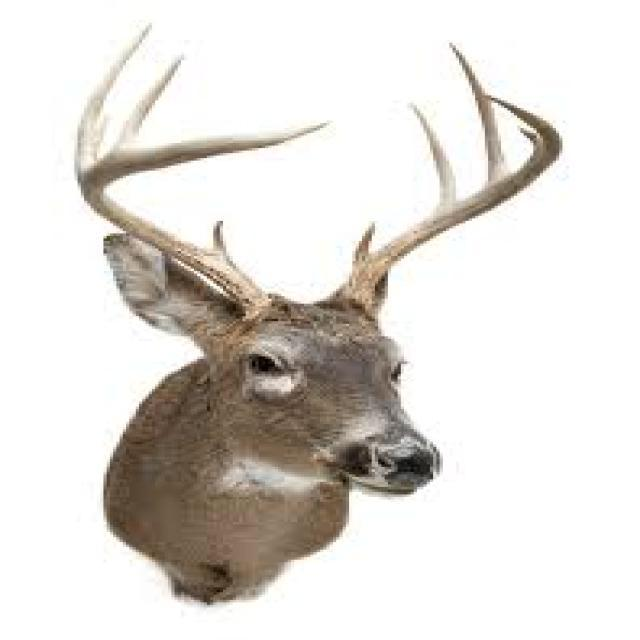L-F: (335, 95, 564, 328)
L-G1: (352, 220, 376, 273)
L-G2: (406, 101, 456, 207)
L-G3: (445, 41, 510, 183)
R-F: (79, 119, 332, 325)
R-G1: (210, 220, 232, 260)
R-G3: (72, 20, 153, 177)
R-G4: (109, 51, 187, 153)
